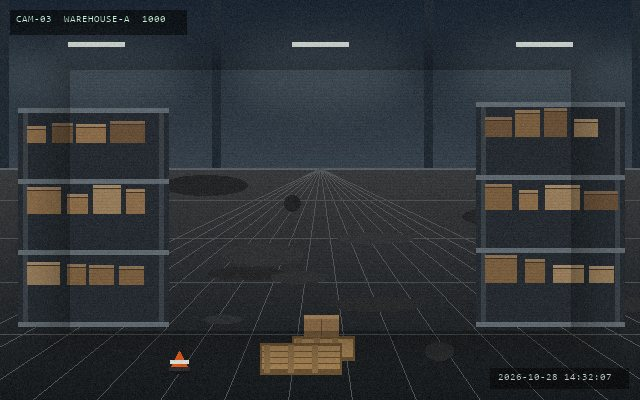cone: (168, 349, 190, 373)
pallet: (258, 341, 343, 376), (290, 334, 356, 362)
shelf: (476, 102, 624, 322), (18, 108, 168, 322)
